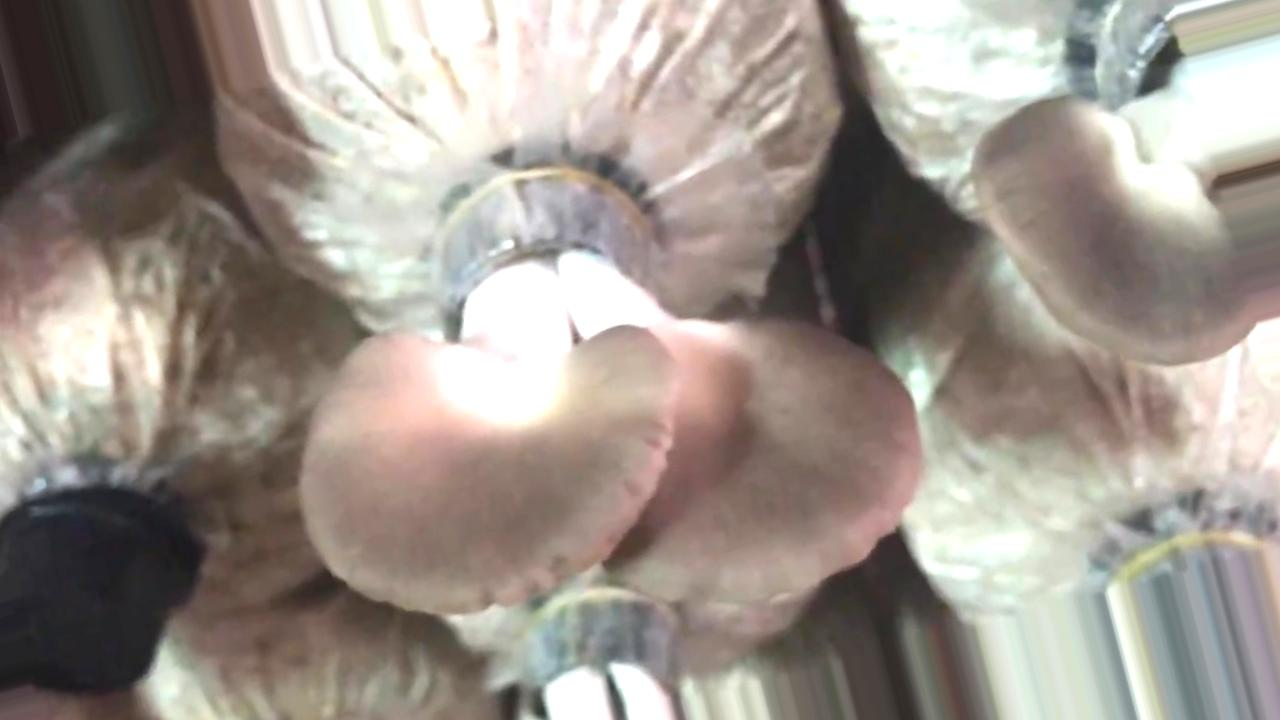nam: (298, 173, 923, 621), (970, 2, 1280, 370)
